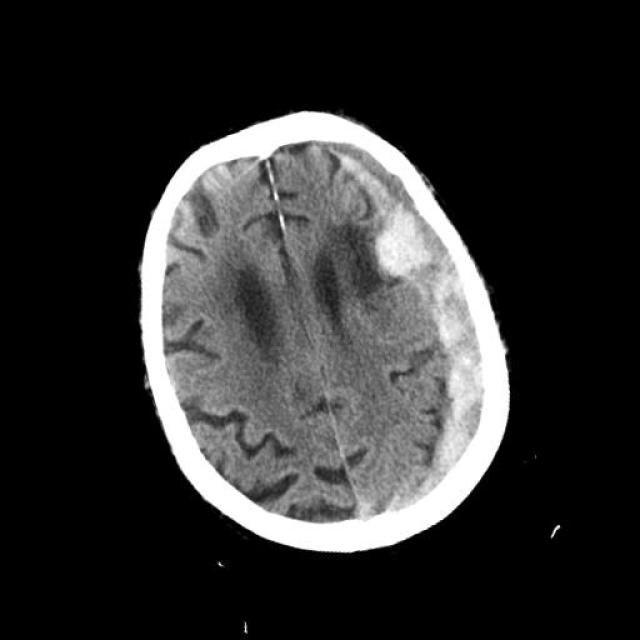Subdural: (300, 98, 564, 512)
